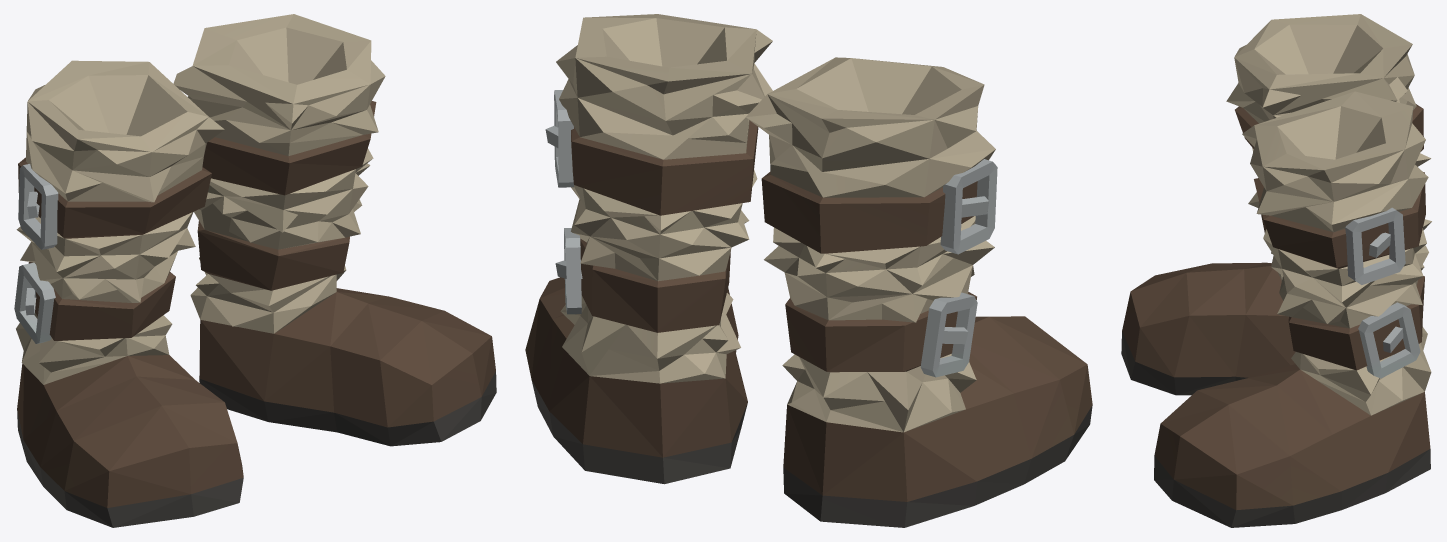
Rendered from bootsFrostDisplay.fbx.
3 views of the same model, side by side, from view 1: azimuth 30°, elevation 25°; view 2: azimuth 150°, elevation 25°; view 3: azimuth 270°, elevation 25° (orthographic). The views are drawn at different scales.
Visible parts, largest first — view 1: bootsFrostDisplay; view 2: bootsFrostDisplay; view 3: bootsFrostDisplay.
Part boxes in pixels (x1,y1,x2,y2): bootsFrostDisplay: [14, 14, 496, 527]; bootsFrostDisplay: [525, 14, 1092, 527]; bootsFrostDisplay: [1121, 14, 1431, 527].
Size of the model in its own units: 1.65 by 1.23 by 1.04.
